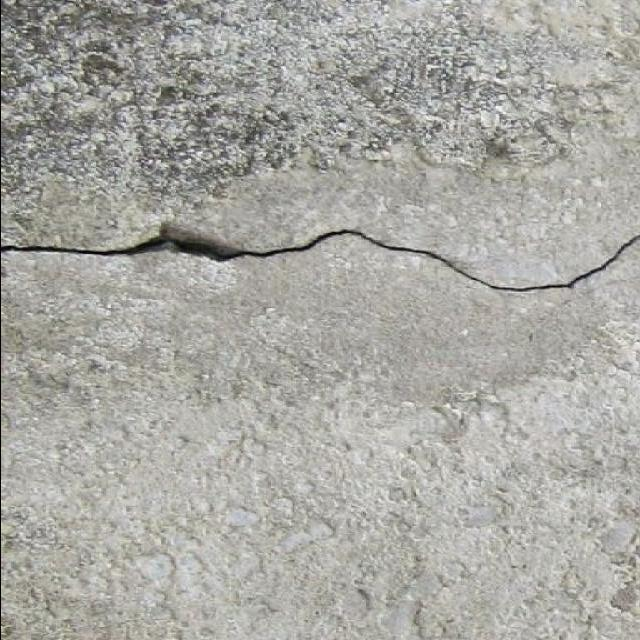crack: (0, 220, 639, 292), (5, 237, 177, 260)
